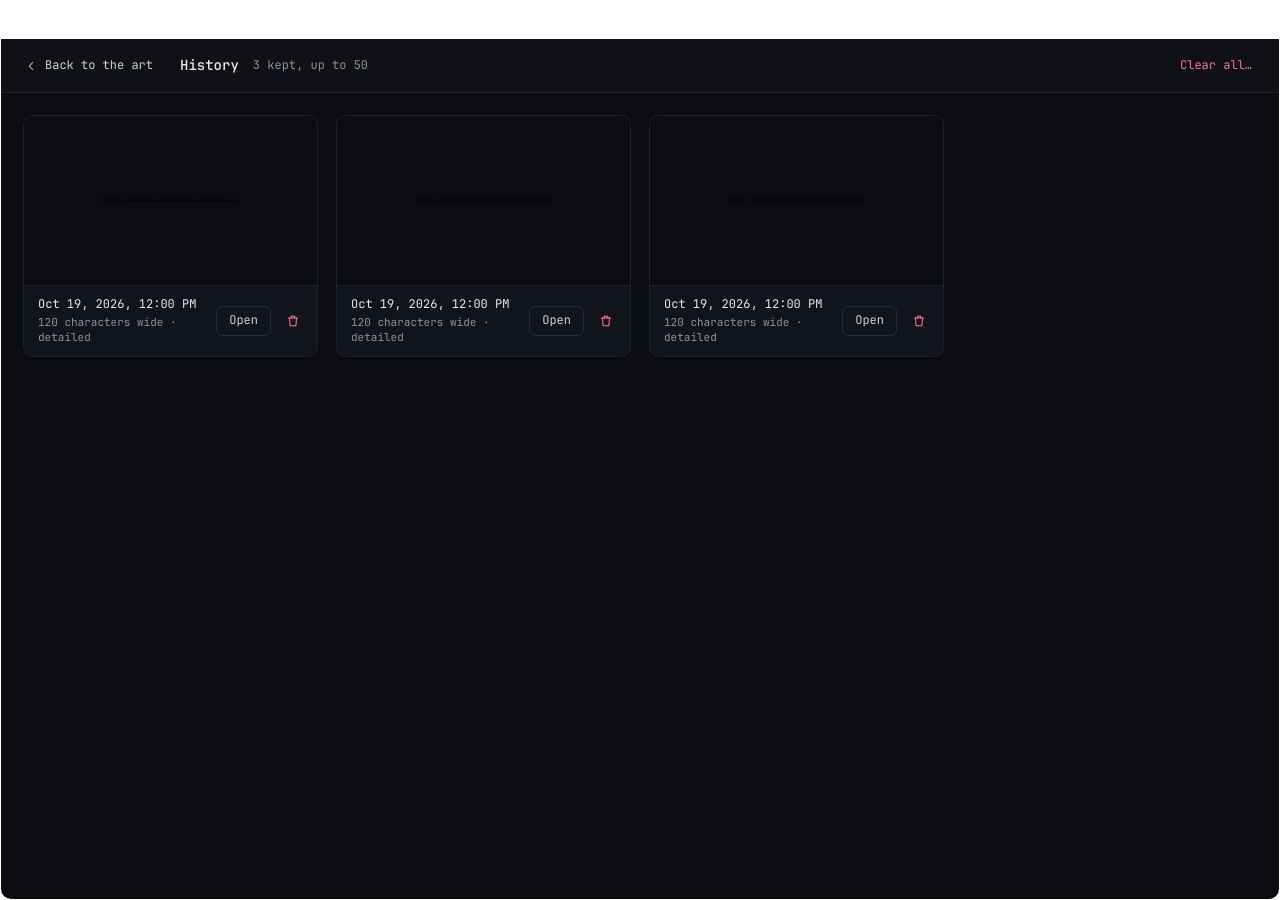
Test case: opening an entry › fetches the full entry, then hands it over and closes
Click the 2nd button "Open ".
click(557, 321)  # box [529,306,584,336]
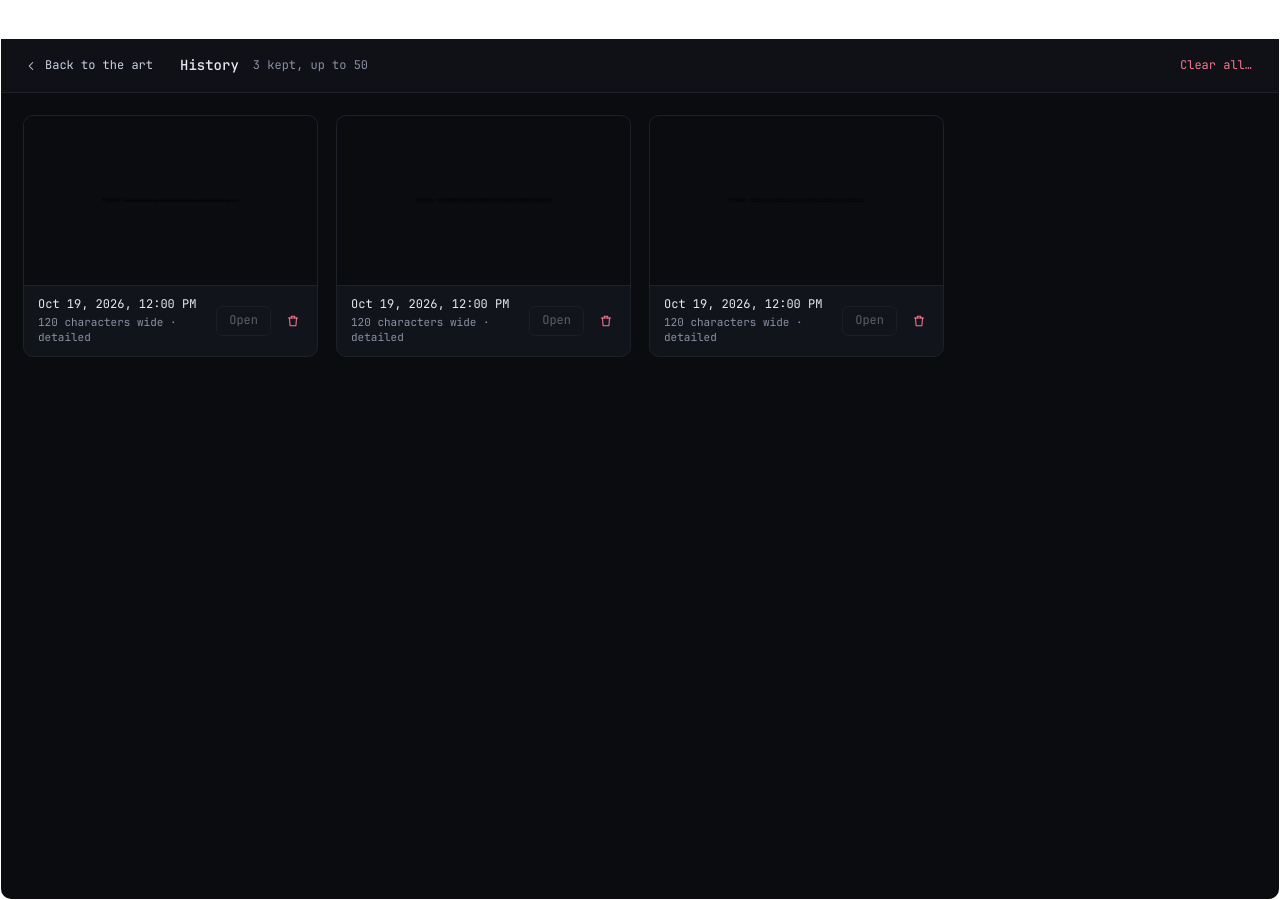
Expected: the 1st button "Open " is disabled, [216,306,271,336]
Expected: the 2nd button "Open " is disabled, [529,306,584,336]
Expected: the 3rd button "Open " is disabled, [842,306,897,336]
